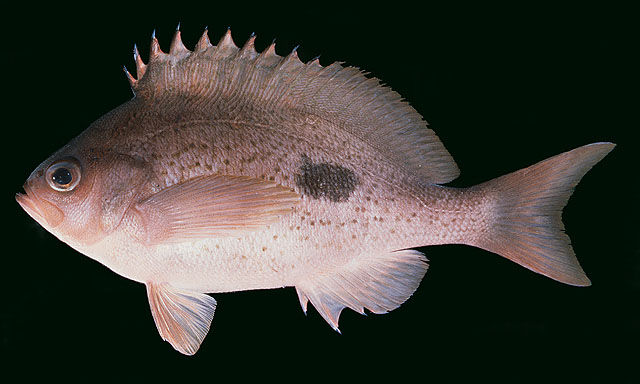fish: (19, 24, 619, 356)
